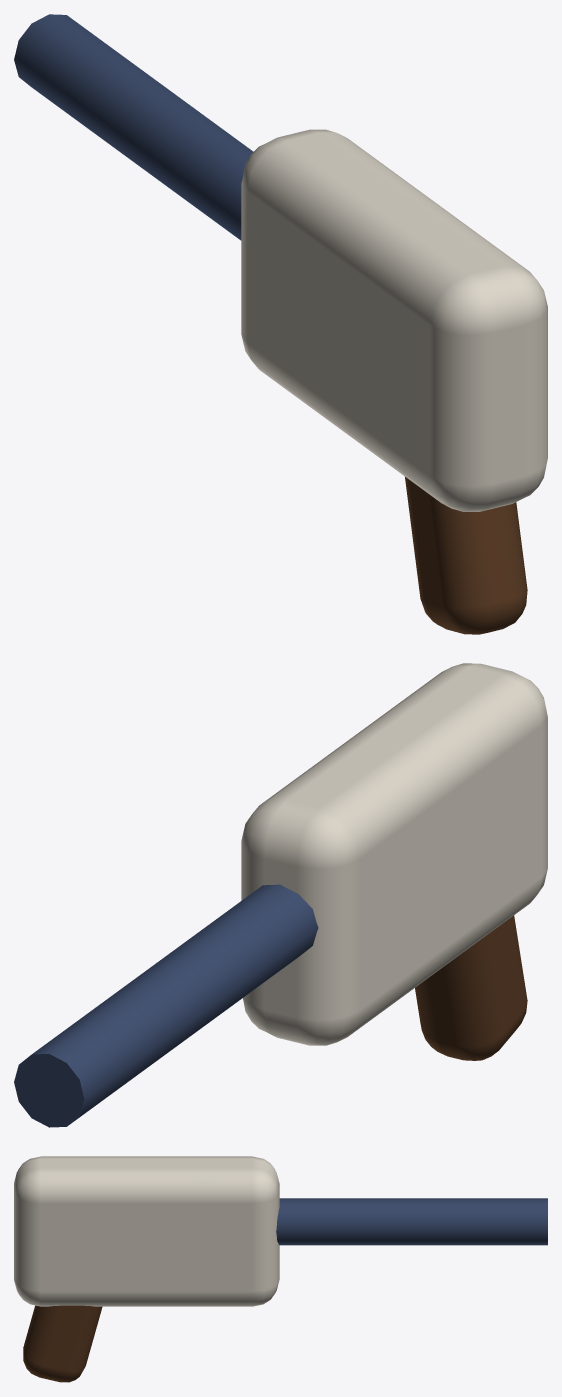
Rendered from placeholder_chroma_key.glb.
The picture shows the model from 3 angles, top to bottom: view 1: azimuth 30°, elevation 25°; view 2: azimuth 150°, elevation 25°; view 3: azimuth 270°, elevation 25°; orthographic projection. The views are drawn at different scales.
Parts seen in each view (by area): view 1: body, placeholder_chroma_key; view 2: body, placeholder_chroma_key; view 3: body, placeholder_chroma_key.
Part boxes in pixels (x1=…): body: x1=241, y1=129, x2=547, y2=511; placeholder_chroma_key: x1=14, y1=14, x2=527, y2=634; body: x1=241, y1=663, x2=547, y2=1045; placeholder_chroma_key: x1=14, y1=884, x2=527, y2=1127; body: x1=14, y1=1156, x2=279, y2=1306; placeholder_chroma_key: x1=23, y1=1198, x2=547, y2=1382.
Bounding box in the file's own units: 0.07 × 0.2208 × 0.4978.
